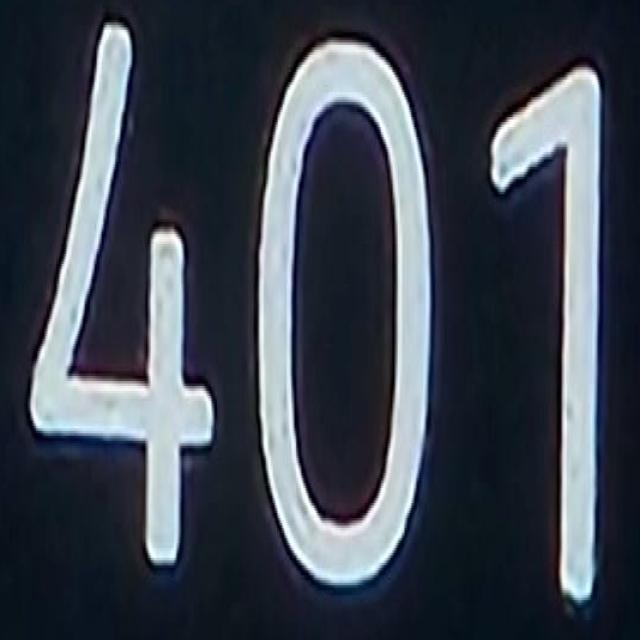character: (25, 7, 225, 580), (249, 30, 435, 598), (487, 51, 607, 612)
